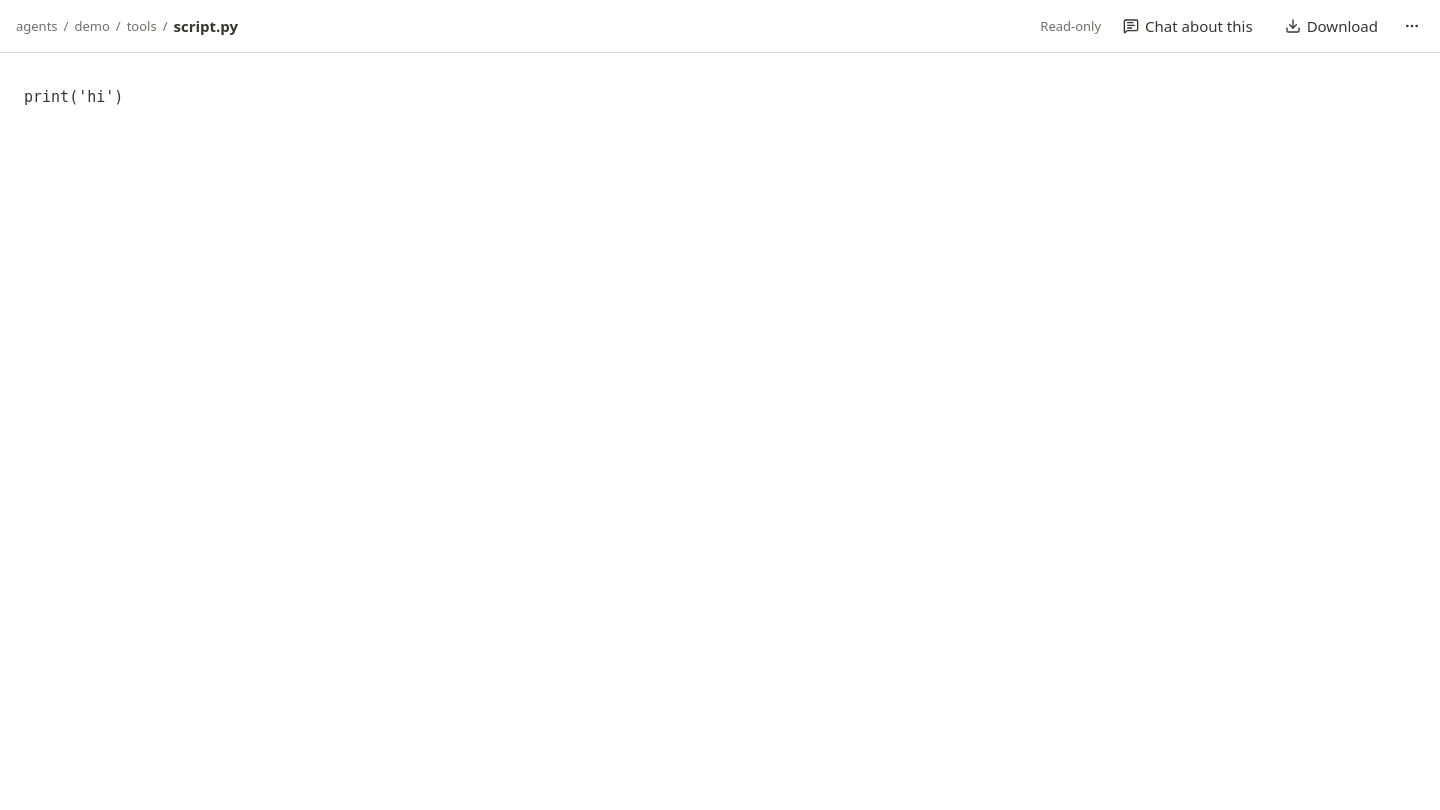
Test case: deleting a nested code file (FileViewer) returns to the tree, never re-fetching the parent as a note
Expected: the text "script.py" is shown, left=174, top=16, right=238, bottom=36
Click the button named "file actions".
click(1412, 26)  # box left=1400, top=14, right=1424, bottom=38
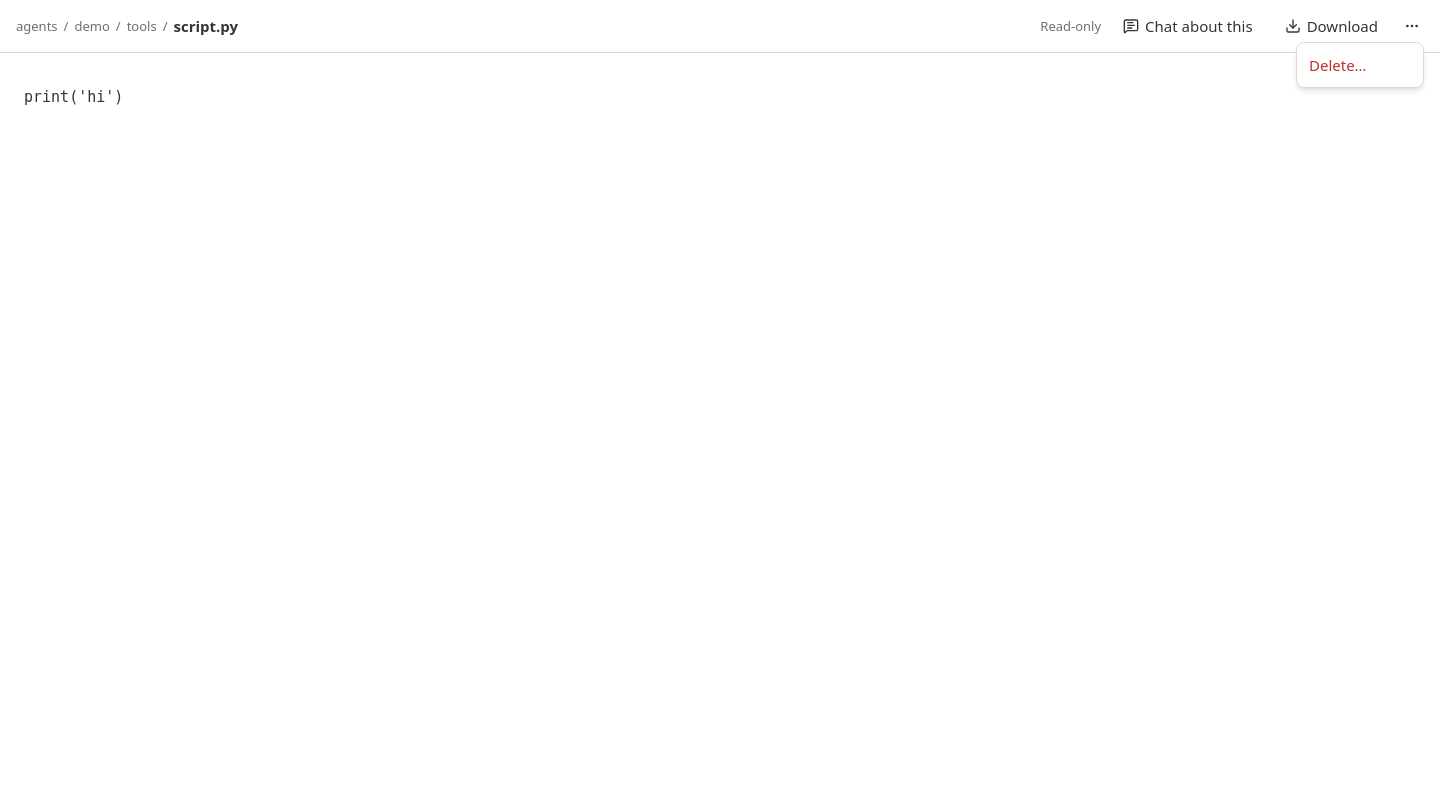
Click the menu item "Delete…".
click(1338, 65)  # box left=1309, top=55, right=1366, bottom=75
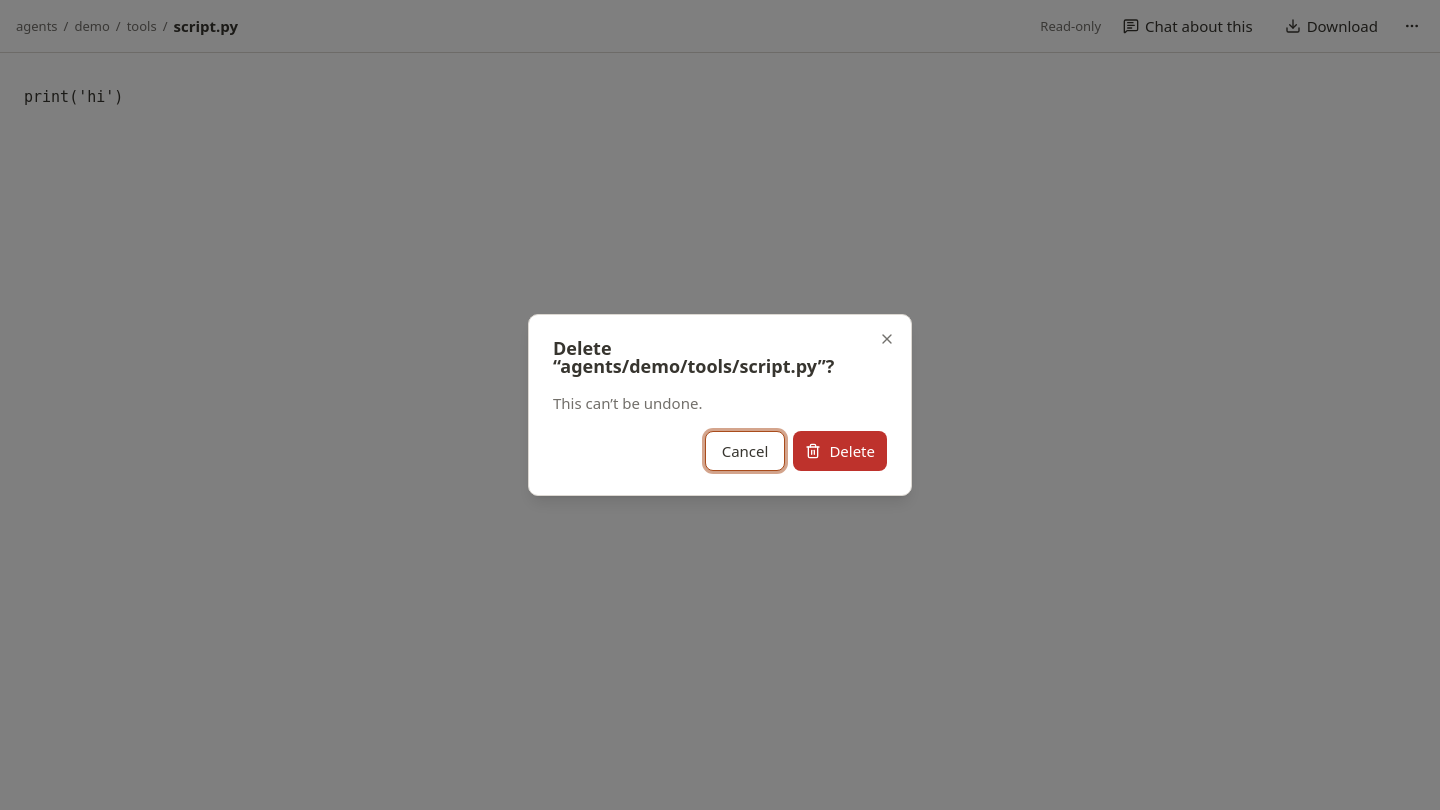
Click the button "Delete".
click(840, 451)  # box left=793, top=431, right=887, bottom=471
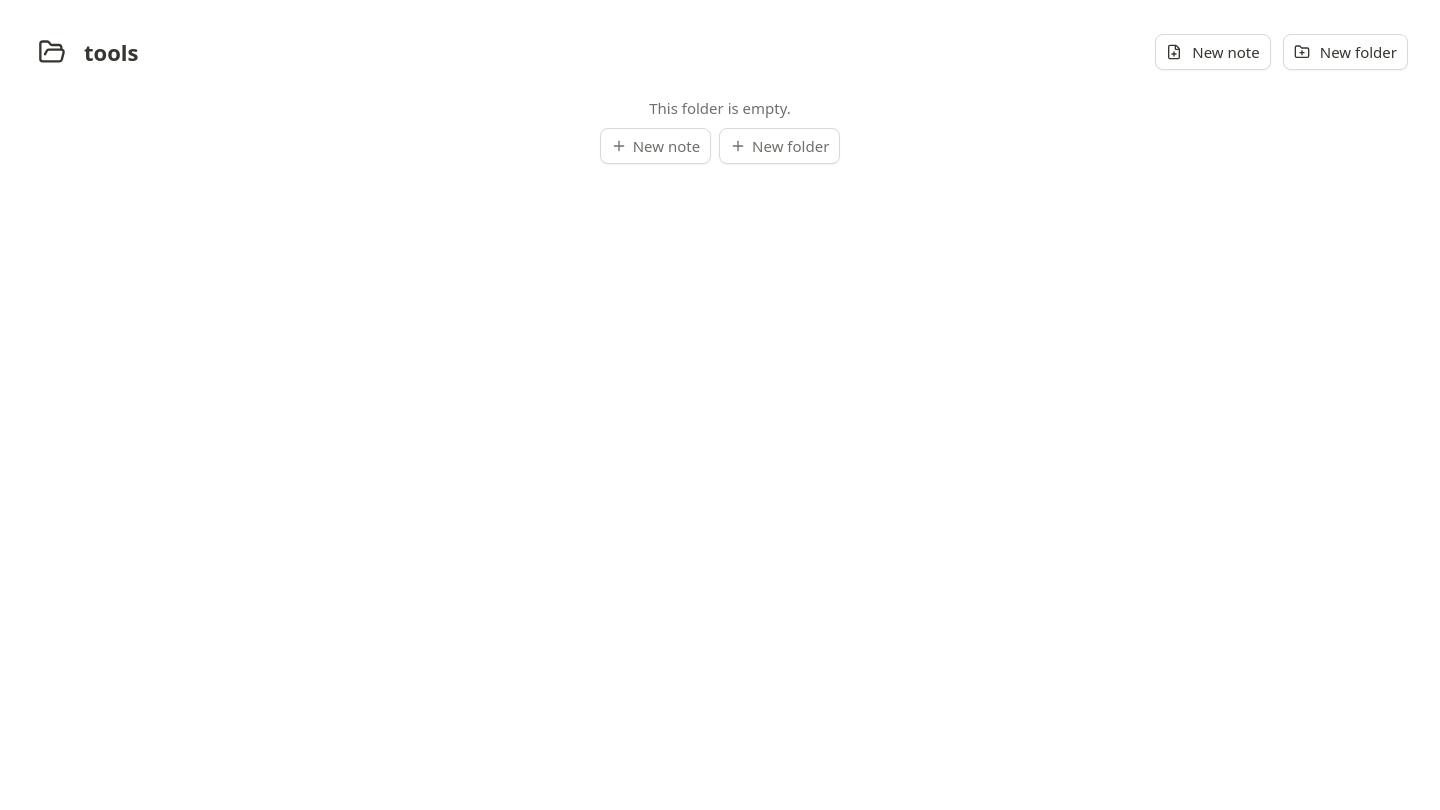
Expected: the text "This folder is empty." is shown, left=649, top=96, right=791, bottom=120
